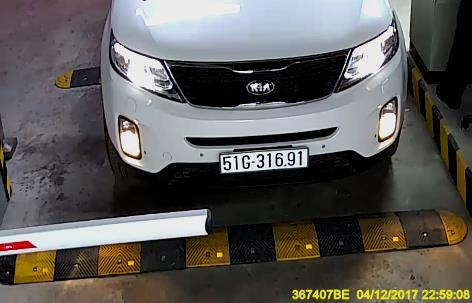License_Plate: (218, 146, 309, 173)
